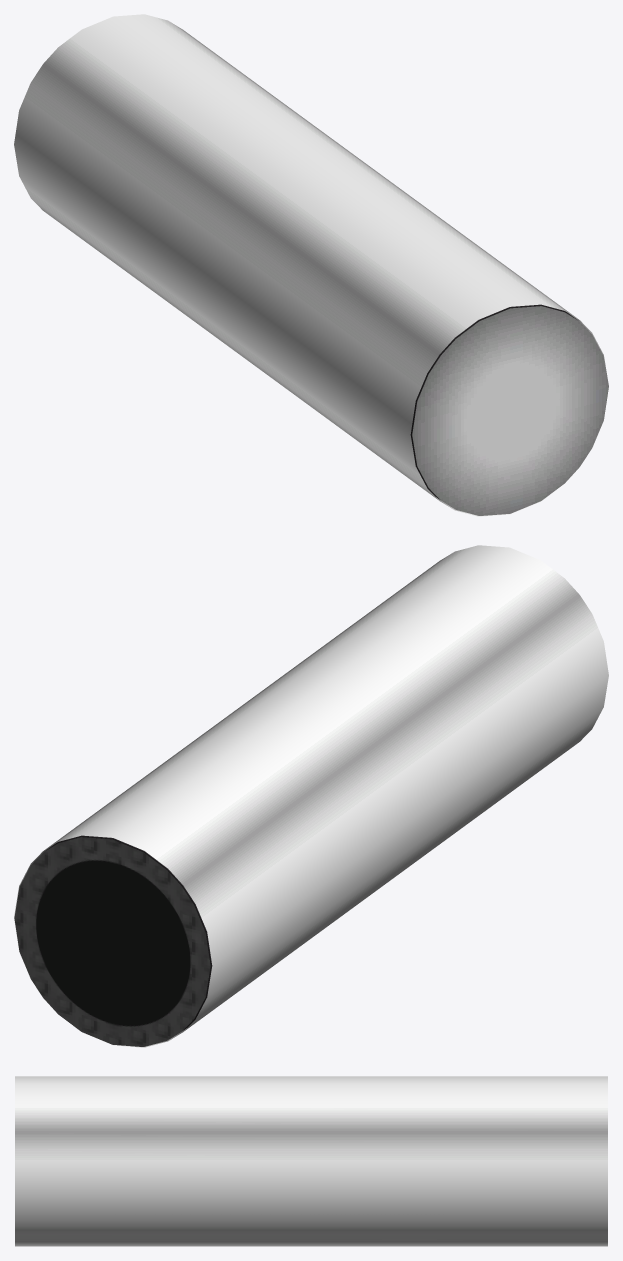
File: burstlaser.obj
The picture shows the model from 3 angles, top to bottom: view 1: azimuth 30°, elevation 25°; view 2: azimuth 150°, elevation 25°; view 3: azimuth 270°, elevation 25°; orthographic projection. The views are drawn at different scales.
Visible parts, largest first — view 1: Burstlaser5, Burstlaser4, Burstlaser3; view 2: Burstlaser5, Burstlaser4, Burstlaser2; view 3: Burstlaser7, Burstlaser4, Burstlaser6.
Part boxes in pixels (x1,y1,x2,y2): Burstlaser5: [14, 64, 439, 499]; Burstlaser4: [43, 14, 578, 354]; Burstlaser3: [412, 306, 608, 515]; Burstlaser5: [183, 595, 608, 1030]; Burstlaser4: [44, 545, 579, 885]; Burstlaser2: [14, 837, 210, 1046]; Burstlaser7: [15, 1132, 607, 1241]; Burstlaser4: [15, 1076, 607, 1132]; Burstlaser6: [15, 1242, 607, 1246].
Size of the model in its own units: 4.04 by 4.04 by 14.04.
4 materials, 3 textured.
